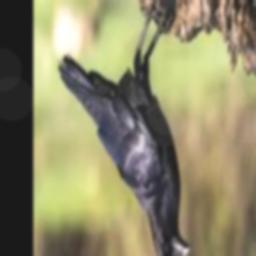Crow: (57, 0, 191, 256)
